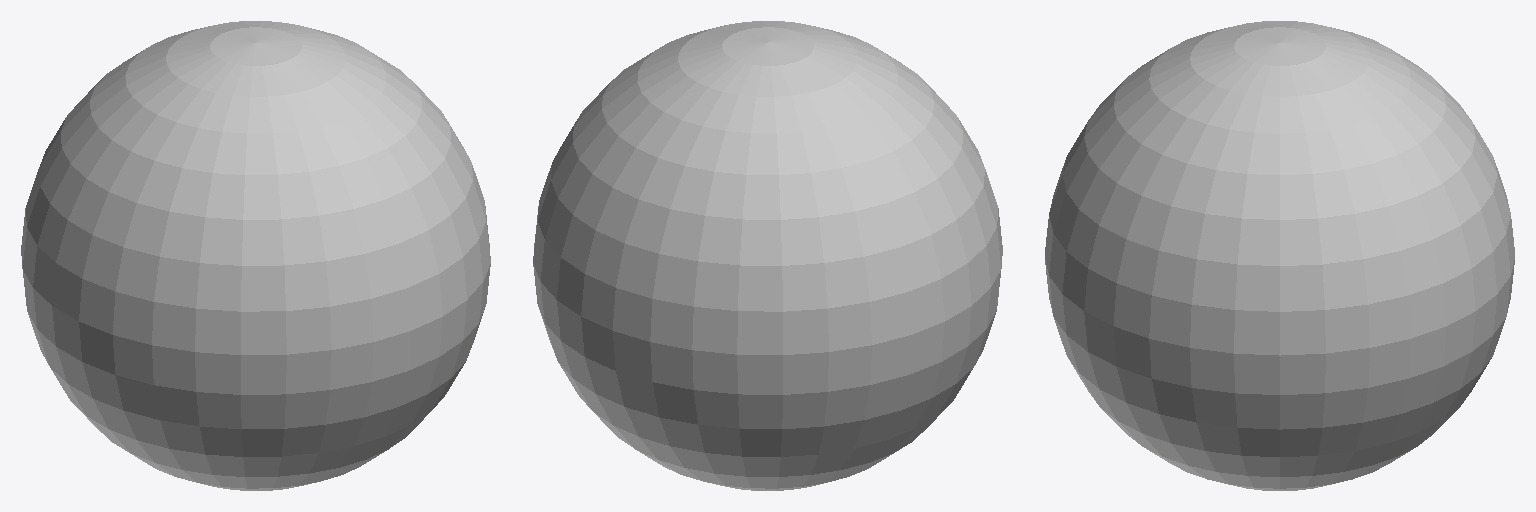
File: RangeDown.obj
The picture shows the model from 3 angles: view 1: azimuth 30°, elevation 25°; view 2: azimuth 150°, elevation 25°; view 3: azimuth 270°, elevation 25°; orthographic projection.
Visible parts, largest first — view 1: Sphere; view 2: Sphere; view 3: Sphere.
Part boxes in pixels (x1,y1,x2,y2): Sphere: (21,21,490,490); Sphere: (533,21,1002,490); Sphere: (1045,21,1514,490).
Bounding box in the file's own units: 1 × 1 × 1.